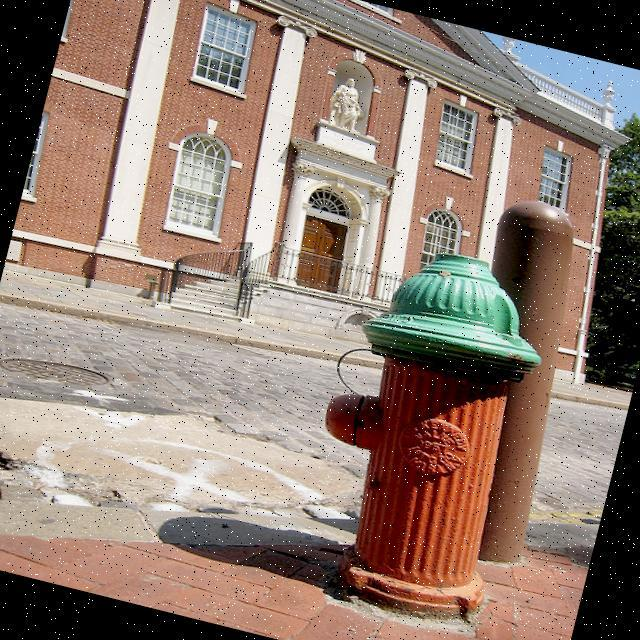fire_hydrant: (280, 220, 584, 636)
